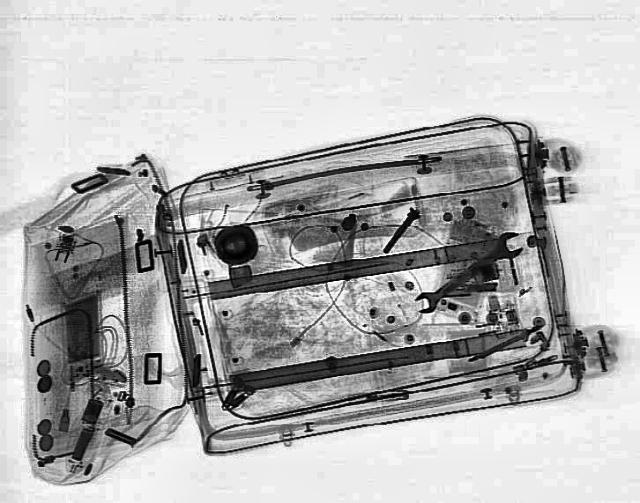Wrench: (404, 228, 534, 316)
